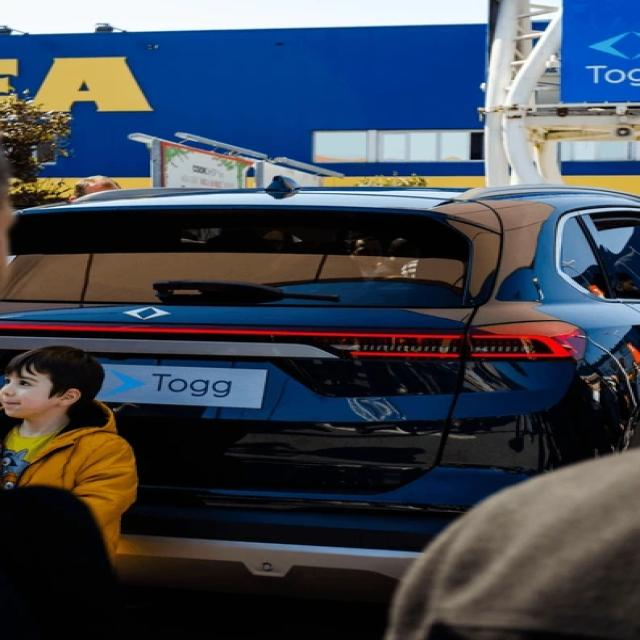togg: (116, 304, 178, 325)
